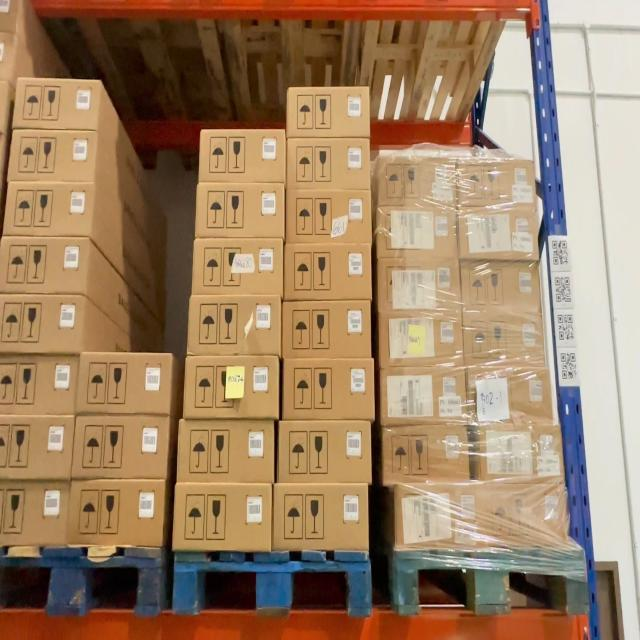box: (394, 478, 481, 555), (484, 477, 571, 550), (176, 414, 274, 478), (274, 478, 366, 545), (175, 484, 272, 547), (190, 294, 284, 359), (193, 236, 281, 305), (195, 184, 286, 244), (183, 358, 276, 416), (198, 131, 283, 194), (466, 358, 552, 420), (375, 248, 460, 310), (382, 422, 468, 483), (481, 420, 564, 483), (282, 358, 373, 414), (378, 361, 464, 420), (277, 425, 371, 478), (287, 188, 373, 245), (287, 133, 370, 192), (463, 300, 545, 358), (286, 244, 370, 298), (284, 299, 368, 353), (461, 200, 539, 258), (378, 303, 458, 358), (463, 253, 540, 308), (378, 202, 458, 253), (382, 150, 455, 205), (290, 87, 368, 136), (462, 155, 538, 203)
